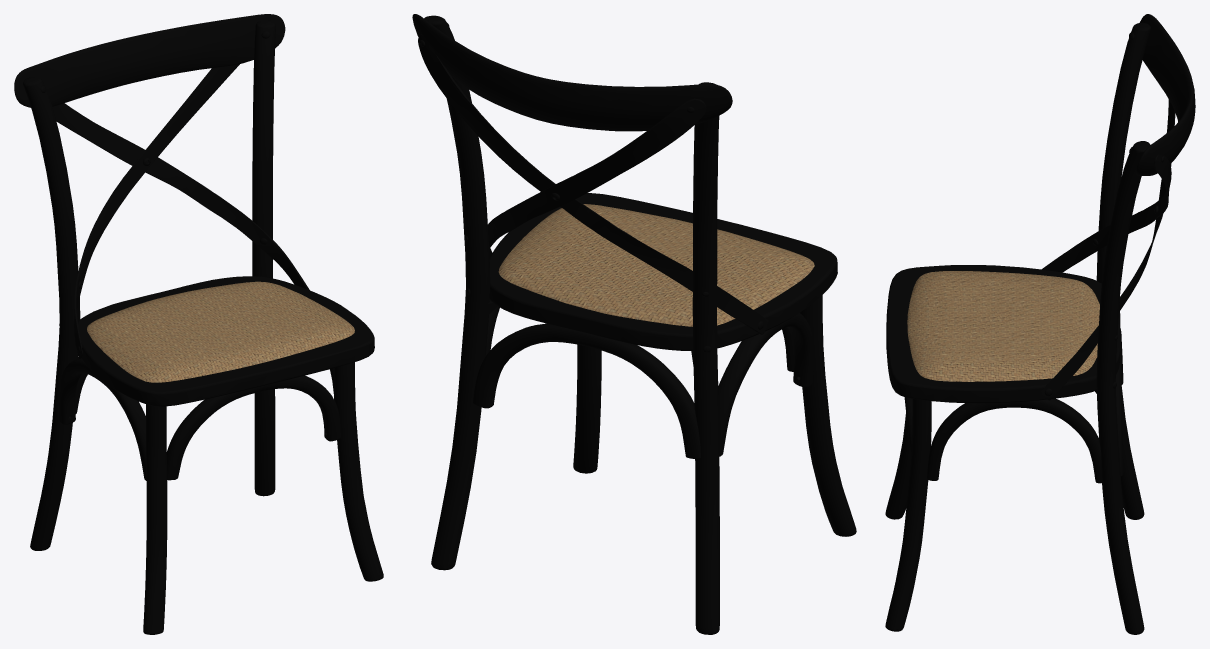
The model's file is LRFY6447_v6_LOD2.obj.
3 renders of one model, left to right at view 1: azimuth 30°, elevation 25°; view 2: azimuth 150°, elevation 25°; view 3: azimuth 270°, elevation 25°, orthographic. The views are drawn at different scales.
Parts seen in each view (by area): view 1: not_clear_obj_0_v6, not_clear_obj_2_v6; view 2: not_clear_obj_0_v6, not_clear_obj_2_v6; view 3: not_clear_obj_0_v6, not_clear_obj_2_v6.
Boxes of the visible parts, box(x1,y1,x2,y2) form: not_clear_obj_0_v6: box(14, 14, 383, 634); not_clear_obj_2_v6: box(87, 281, 354, 382); not_clear_obj_0_v6: box(412, 14, 856, 634); not_clear_obj_2_v6: box(498, 204, 814, 326); not_clear_obj_0_v6: box(885, 14, 1195, 634); not_clear_obj_2_v6: box(907, 271, 1099, 381).
Size of what is drawn, in the model's own units: 52.22 by 87.44 by 49.57.
Materials: 3 (1 with a texture image).
